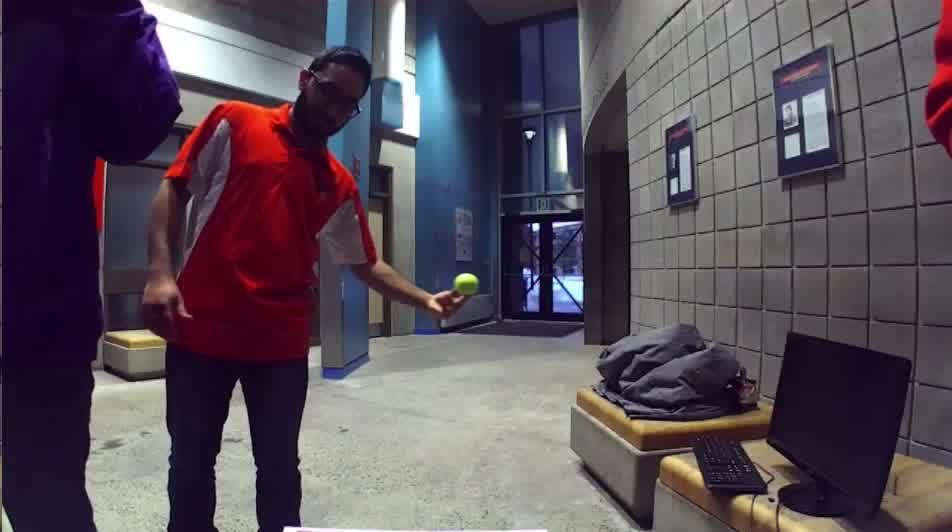tennis_ball: (452, 270, 480, 297)
